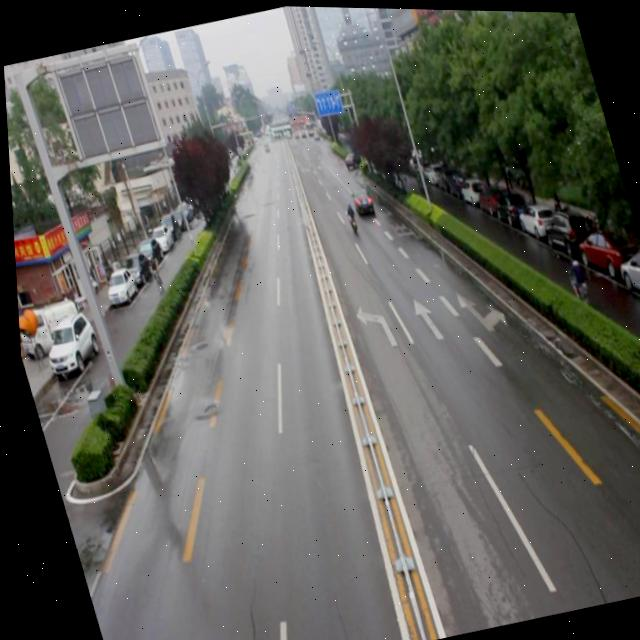car: (345, 183, 372, 216), (339, 148, 360, 170)
